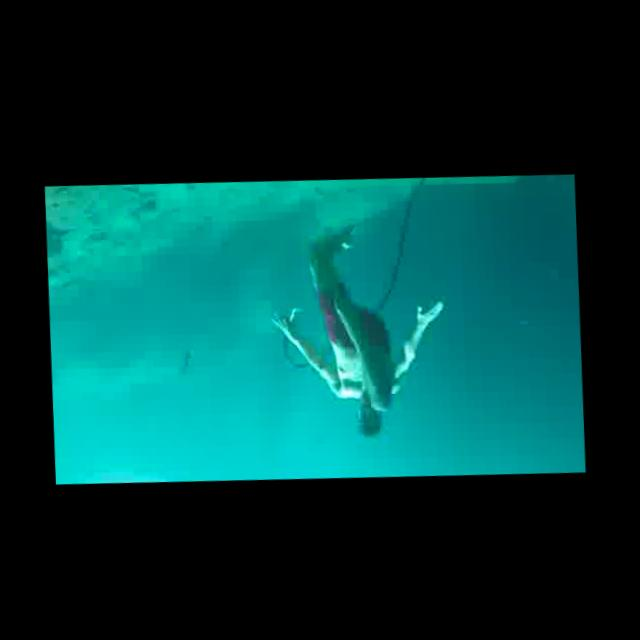human: (264, 208, 456, 446)
